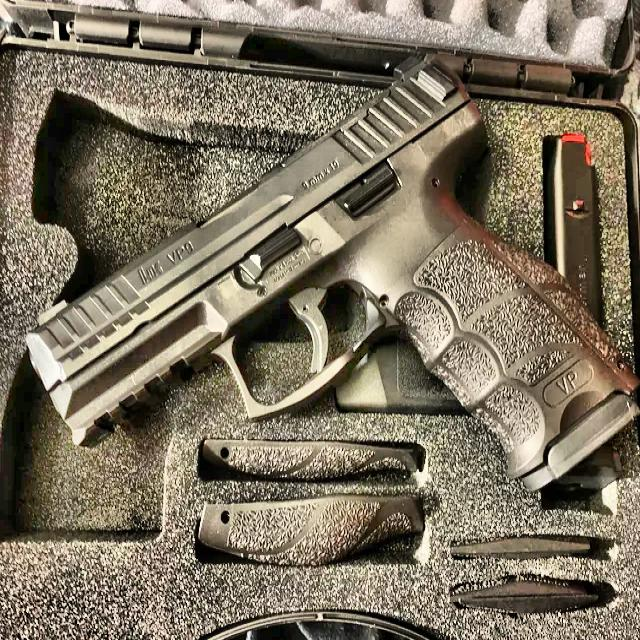HKVP9: (23, 49, 640, 497)
